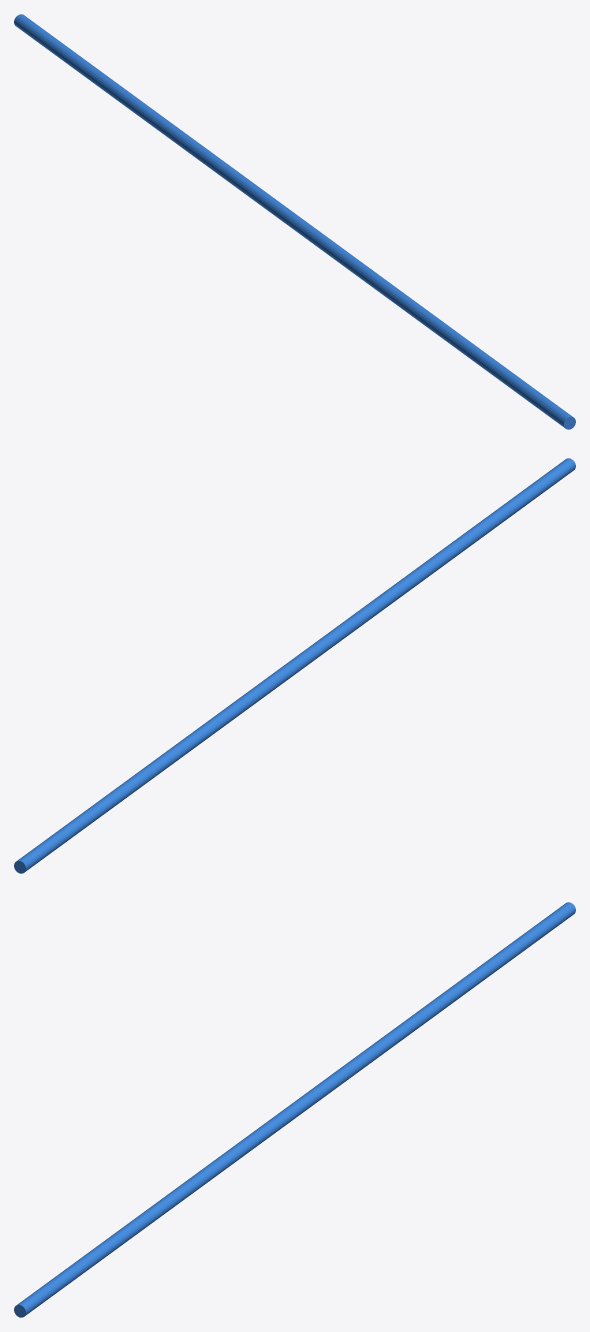
File: tube-pneu.glb
The picture shows the model from 3 angles, top to bottom: view 1: azimuth 30°, elevation 25°; view 2: azimuth 150°, elevation 25°; view 3: azimuth 330°, elevation 25°; orthographic projection.
Parts seen in each view (by area): view 1: body; view 2: body; view 3: body.
Part boxes in pixels (left/top/right/bottom): body: left=25, top=22, right=561, bottom=419; body: left=28, top=466, right=564, bottom=863; body: left=28, top=910, right=564, bottom=1307.
Size of what is drawn, in the model's own units: 0.00635 by 0.00635 by 0.5.
